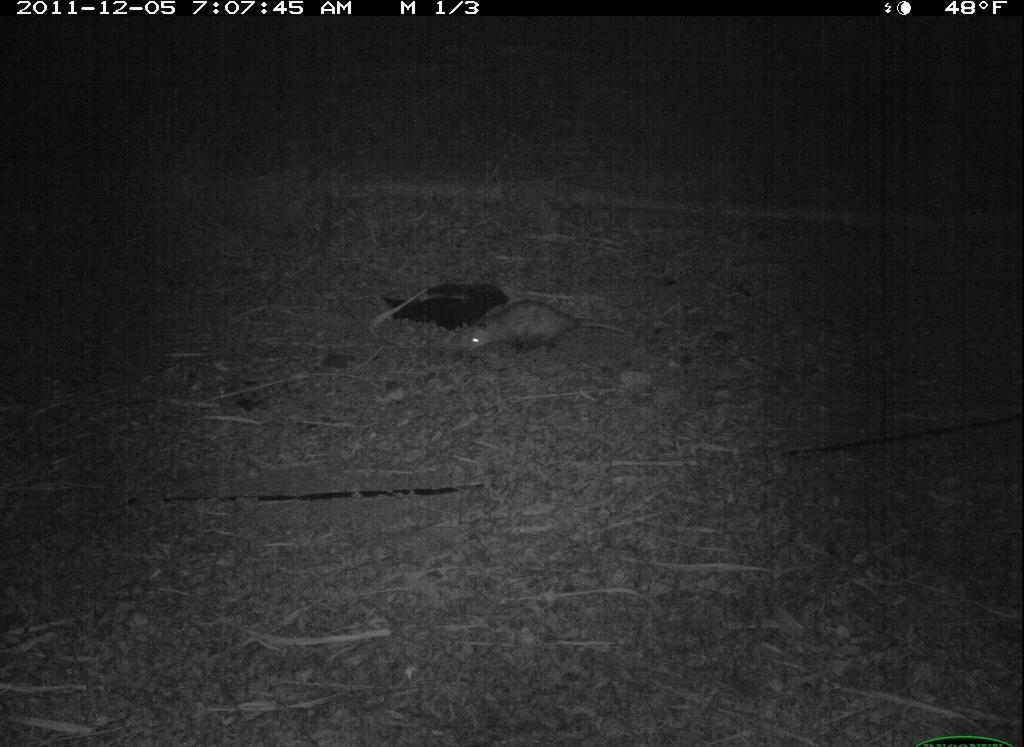opossum: (456, 291, 651, 388)
